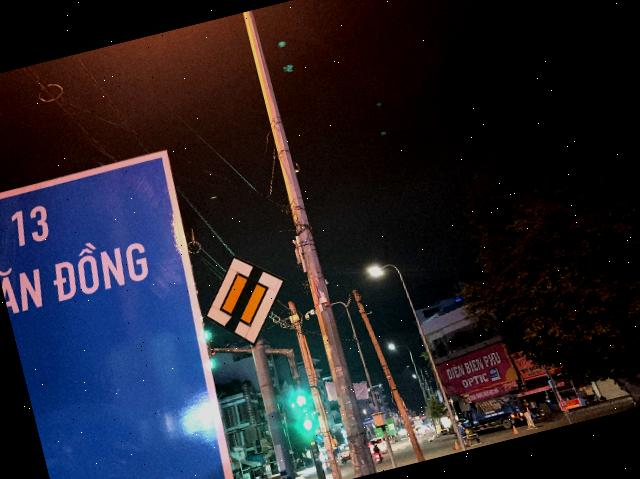het-duong-uu-tien: (192, 245, 302, 360)
